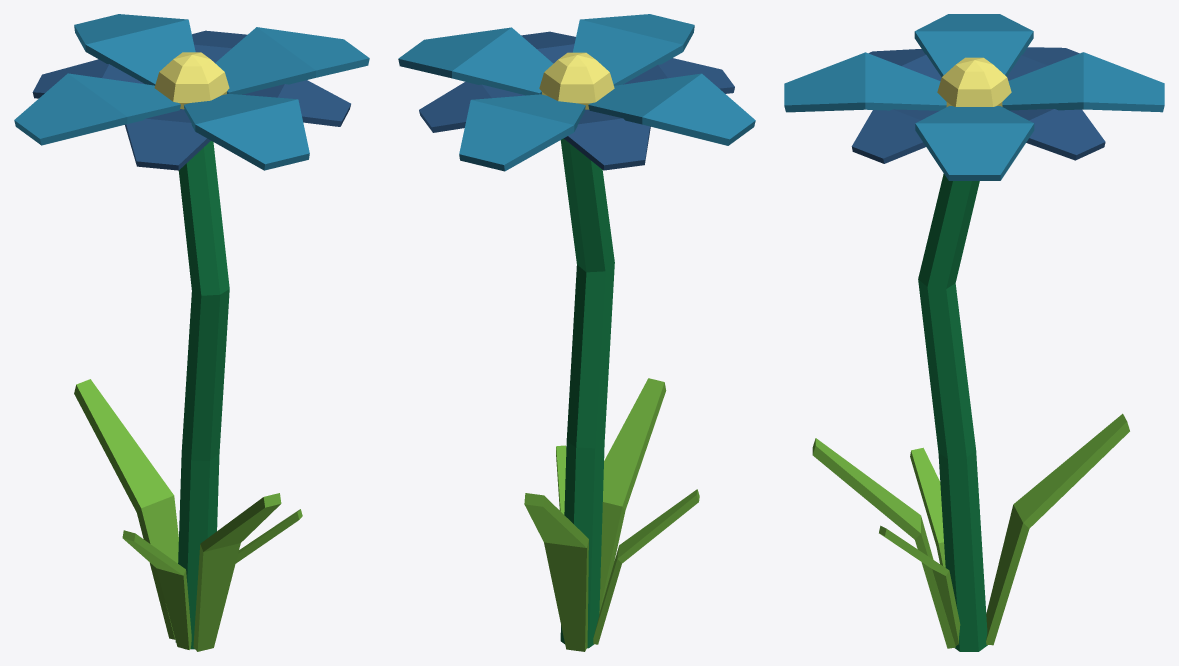
File: Flower_Blue.fbx
3 views of the same model, side by side, from view 1: azimuth 30°, elevation 25°; view 2: azimuth 150°, elevation 25°; view 3: azimuth 270°, elevation 25° (orthographic).
Visible parts, largest first — view 1: Flower_Blue; view 2: Flower_Blue; view 3: Flower_Blue.
Part boxes in pixels (box(x1,y1,x2,y2)): Flower_Blue: box(14, 14, 369, 651); Flower_Blue: box(398, 14, 755, 651); Flower_Blue: box(784, 14, 1164, 651).
Size of the model in its own units: 10.74 by 18.21 by 10.74.
